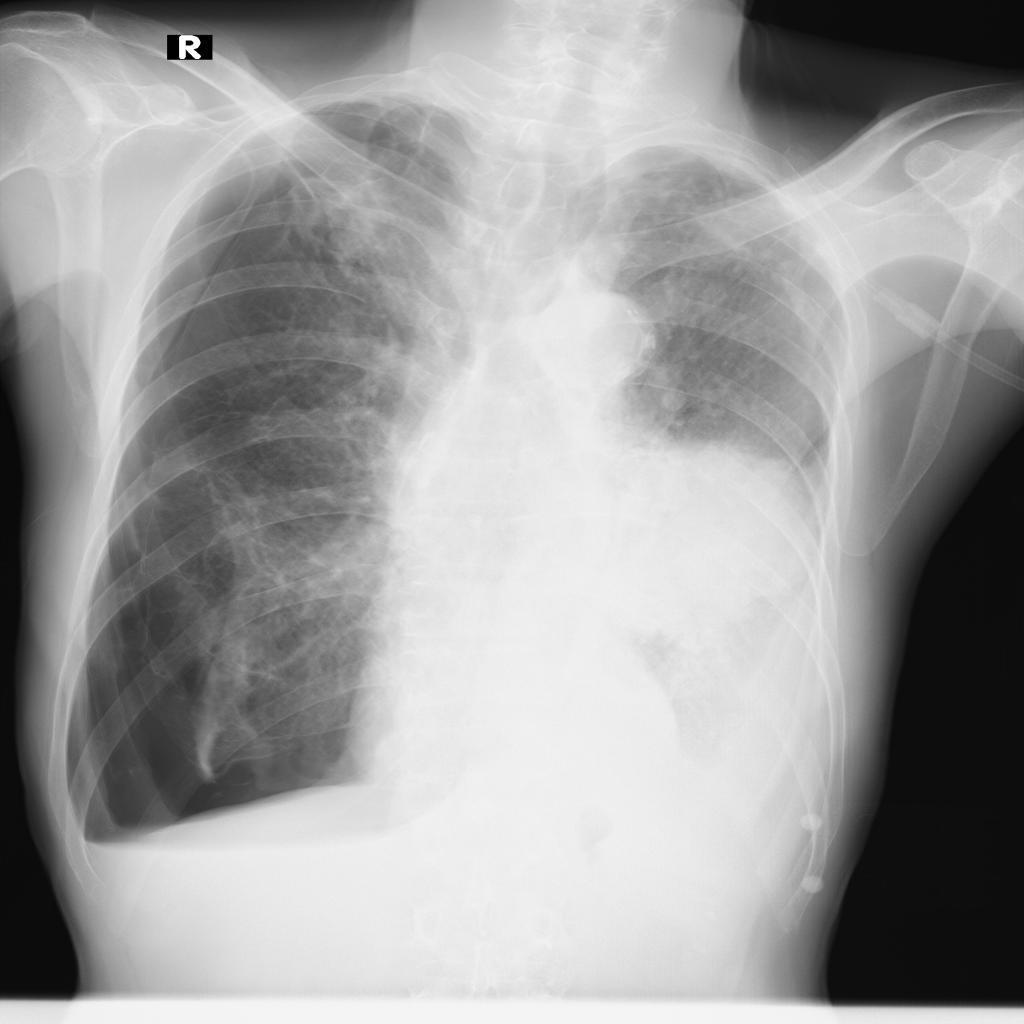Nodule: (594, 437, 814, 652)
